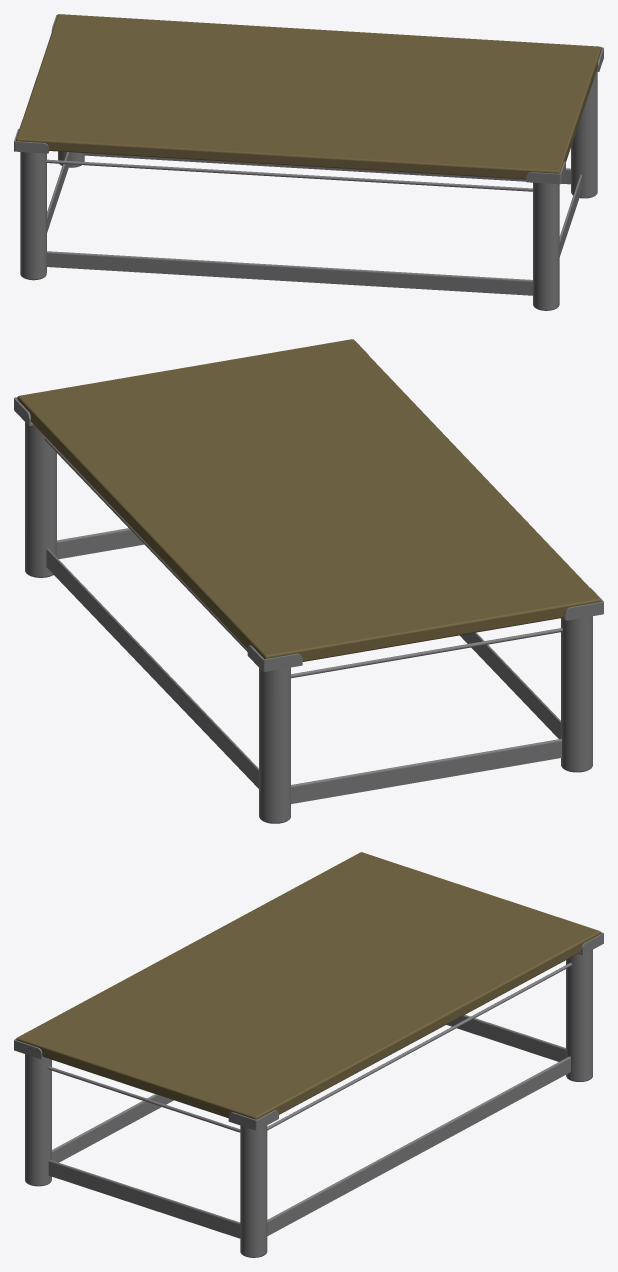
The model's file is cooffe.obj.
3 views of the same model, one above another, from view 1: azimuth 30°, elevation 25°; view 2: azimuth 150°, elevation 25°; view 3: azimuth 270°, elevation 25° (orthographic). The views are drawn at different scales.
Visible parts, largest first — view 1: Mesh1 Group1 Model, Mesh11 Group10 Model, Mesh4 Group4 Model, Mesh3 Group3 Model, Mesh2 Group2 Model, Mesh6 OD_20_0mm_ID_0_0mm Model, Mesh9 Group8 Model, Mesh7 Group6 Model; view 2: Mesh1 Group1 Model, Mesh11 Group10 Model, Mesh5 Group5 Model, Mesh4 Group4 Model, Mesh2 Group2 Model, Mesh6 OD_20_0mm_ID_0_0mm Model, Mesh8 Group7 Model; view 3: Mesh1 Group1 Model, Mesh11 Group10 Model, Mesh2 Group2 Model, Mesh3 Group3 Model, Mesh5 Group5 Model, Mesh6 OD_20_0mm_ID_0_0mm Model, Mesh10 Group9 Model.
Part boxes in pixels (left/top/right/bottom): Mesh1 Group1 Model: left=16, top=14, right=601, bottom=179; Mesh11 Group10 Model: left=46, top=152, right=581, bottom=295; Mesh4 Group4 Model: left=20, top=152, right=46, bottom=280; Mesh3 Group3 Model: left=533, top=182, right=559, bottom=310; Mesh2 Group2 Model: left=571, top=71, right=597, bottom=198; Mesh6 OD_20_0mm_ID_0_0mm Model: left=46, top=159, right=532, bottom=191; Mesh9 Group8 Model: left=526, top=161, right=565, bottom=184; Mesh7 Group6 Model: left=14, top=129, right=49, bottom=153; Mesh1 Group1 Model: left=17, top=339, right=601, bottom=661; Mesh11 Group10 Model: left=46, top=528, right=561, bottom=803; Mesh5 Group5 Model: left=259, top=667, right=290, bottom=823; Mesh4 Group4 Model: left=561, top=616, right=592, bottom=772; Mesh2 Group2 Model: left=25, top=422, right=56, bottom=577; Mesh6 OD_20_0mm_ID_0_0mm Model: left=44, top=437, right=562, bottom=678; Mesh8 Group7 Model: left=247, top=645, right=302, bottom=671; Mesh1 Group1 Model: left=16, top=852, right=600, bottom=1119; Mesh11 Group10 Model: left=48, top=1015, right=570, bottom=1238; Mesh2 Group2 Model: left=240, top=1125, right=267, bottom=1257; Mesh3 Group3 Model: left=25, top=1054, right=51, bottom=1186; Mesh5 Group5 Model: left=566, top=950, right=592, bottom=1081; Mesh6 OD_20_0mm_ID_0_0mm Model: left=47, top=962, right=572, bottom=1132; Mesh10 Group9 Model: left=228, top=1110, right=278, bottom=1130.
Bounding box in the file's own units: 147 × 37.01 × 137.
